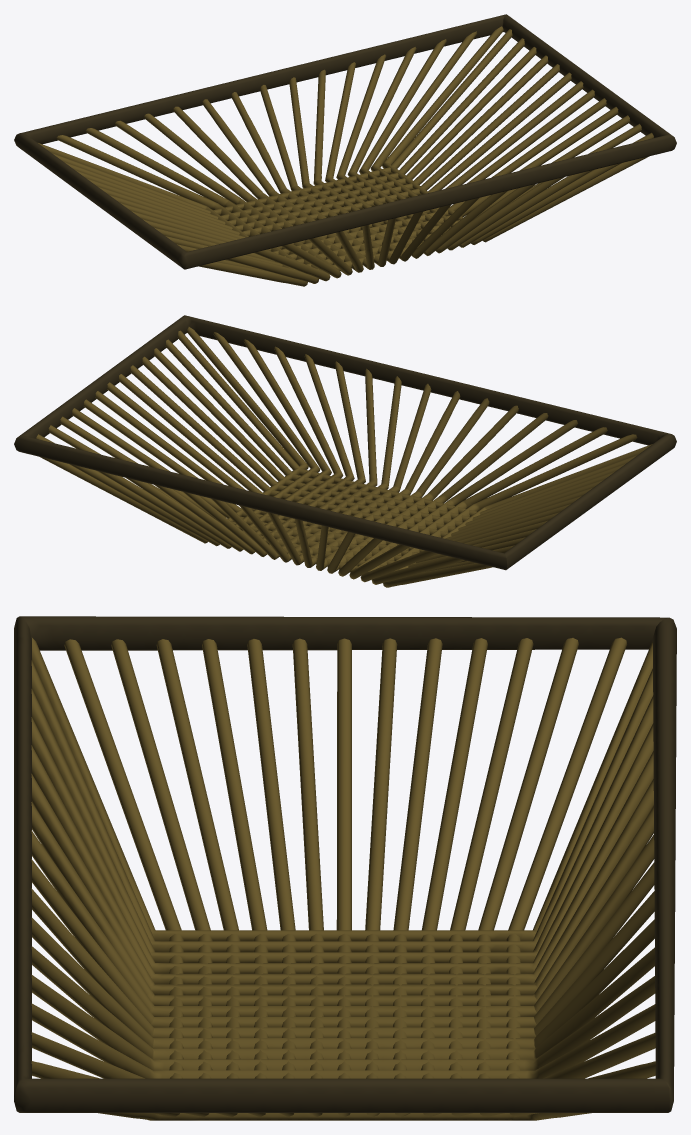
Rendered from Basket.fbx.
The picture shows the model from 3 angles, top to bottom: view 1: azimuth 30°, elevation 25°; view 2: azimuth 150°, elevation 25°; view 3: azimuth 270°, elevation 25°; orthographic projection. The views are drawn at different scales.
Visible parts, largest first — view 1: nurbsToPoly32; view 2: nurbsToPoly32; view 3: nurbsToPoly32.
Boxes of the visible parts, <box> form: nurbsToPoly32: <box>14,14,676,286</box>; nurbsToPoly32: <box>14,315,676,587</box>; nurbsToPoly32: <box>14,616,676,1120</box>.
Bounding box in the file's own units: 9.19 × 1.67 × 5.44.
